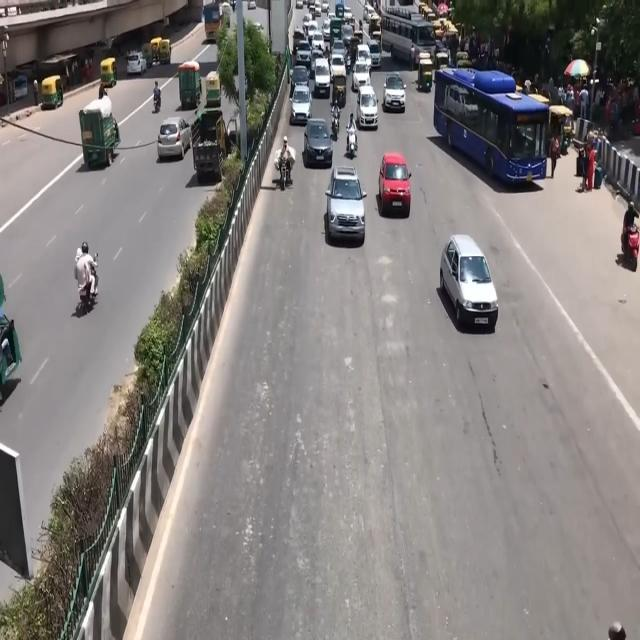auto: (178, 60, 202, 110), (548, 104, 574, 150), (40, 75, 64, 110), (204, 70, 221, 108), (417, 54, 434, 92), (100, 56, 118, 88), (158, 38, 172, 66), (150, 37, 163, 64)
bike-auto: (74, 240, 98, 305), (621, 214, 640, 270), (278, 136, 294, 187), (346, 113, 357, 153), (330, 103, 340, 139), (331, 82, 340, 114), (153, 81, 161, 110), (32, 78, 38, 106)
